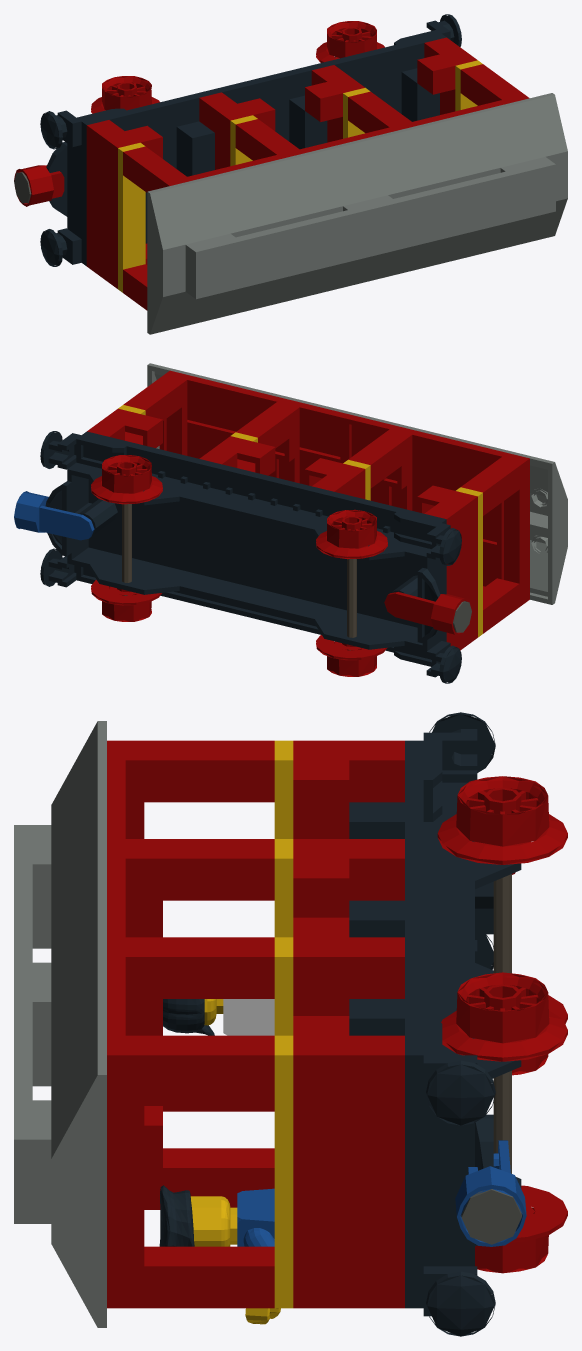
File: excursion-car.glb
3 views of the same model, one above another, from view 1: azimuth 30°, elevation 25°; view 2: azimuth 150°, elevation 25°; view 3: azimuth 270°, elevation 25° (orthographic). The views are drawn at different scales.
Size of the model in its own units: 157 by 60.02 by 95.2.
